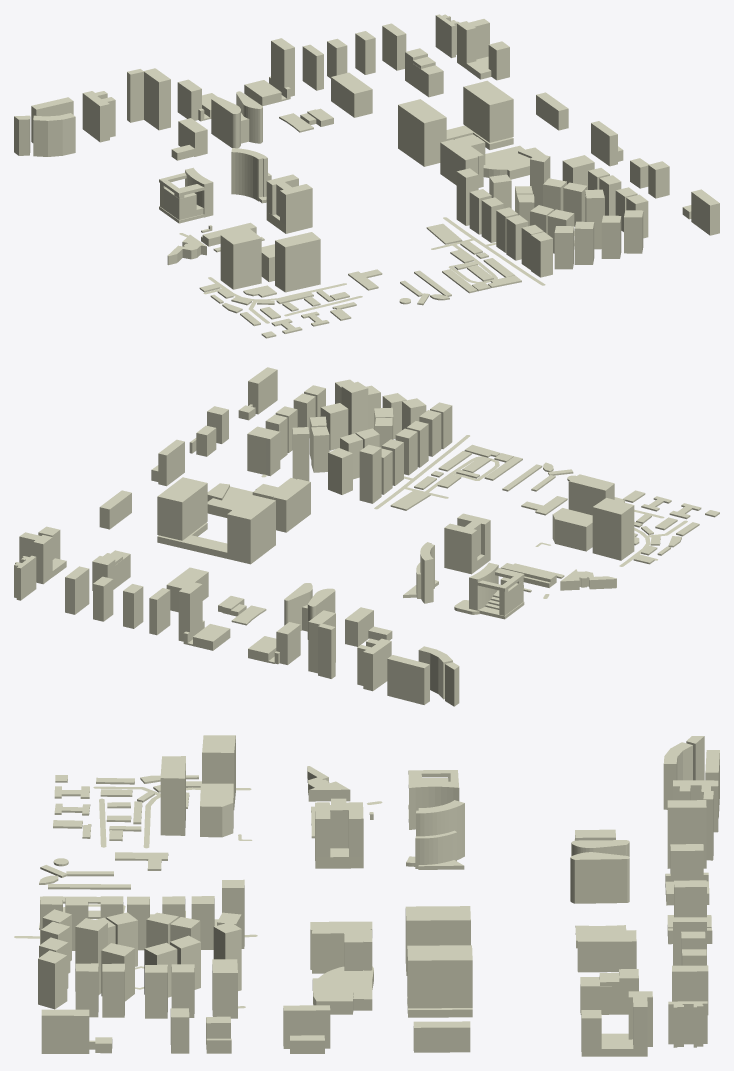
File: building.fbx
3 renders of one model, top to bottom at view 1: azimuth 30°, elevation 25°; view 2: azimuth 150°, elevation 25°; view 3: azimuth 270°, elevation 25°, orthographic. The views are drawn at different scales.
Visible parts, largest first — view 1: Group6, Group94, Group119, Group132, Group3, Group111, Group165, Group162, Group108, Group18, Group1, Group98 (+44 smaller); view 2: Group6, Group119, Group132, Group3, Group165, Group110, Group162, Group129, Group113, Group94, Group11, Group34 (+41 smaller); view 3: Group6, Group165, Group37, Group119, Group3, Group18, Group2, Group94, Group108, Group135, Group113, Group10 (+47 smaller).
Boxes of the visible parts, x1=… form: Group6: x1=463, y1=80, x2=513, y2=142; Group94: x1=275, y1=232, x2=320, y2=292; Group119: x1=398, y1=99, x2=446, y2=160; Group132: x1=220, y1=229, x2=261, y2=289; Group3: x1=266, y1=174, x2=312, y2=224; Group111: x1=33, y1=113, x2=75, y2=156; Group165: x1=440, y1=134, x2=485, y2=187; Group162: x1=82, y1=91, x2=115, y2=142; Group108: x1=144, y1=68, x2=170, y2=130; Group18: x1=331, y1=72, x2=372, y2=117; Group1: x1=457, y1=19, x2=489, y2=68; Group98: x1=211, y1=97, x2=240, y2=148; Group6: x1=157, y1=477, x2=207, y2=540; Group119: x1=227, y1=495, x2=275, y2=558; Group132: x1=592, y1=498, x2=634, y2=560; Group3: x1=444, y1=513, x2=490, y2=564; Group165: x1=252, y1=478, x2=310, y2=532; Group110: x1=387, y1=655, x2=429, y2=704; Group162: x1=357, y1=638, x2=391, y2=691; Group129: x1=247, y1=426, x2=280, y2=476; Group113: x1=552, y1=508, x2=592, y2=551; Group94: x1=568, y1=474, x2=614, y2=515; Group11: x1=157, y1=522, x2=275, y2=564; Group34: x1=178, y1=581, x2=202, y2=641; Group6: x1=407, y1=945, x2=472, y2=1008; Group165: x1=310, y1=921, x2=372, y2=973; Group37: x1=570, y1=852, x2=629, y2=903; Group119: x1=405, y1=906, x2=470, y2=968; Group3: x1=315, y1=802, x2=363, y2=857; Group18: x1=577, y1=930, x2=636, y2=972; Group2: x1=41, y1=1009, x2=89, y2=1053; Group94: x1=160, y1=756, x2=185, y2=835; Group108: x1=667, y1=800, x2=706, y2=868; Group135: x1=413, y1=1021, x2=470, y2=1052; Group113: x1=200, y1=783, x2=233, y2=837; Group10: x1=668, y1=1001, x2=707, y2=1047.
Size of the model in its own units: 132 by 14.79 by 141.
